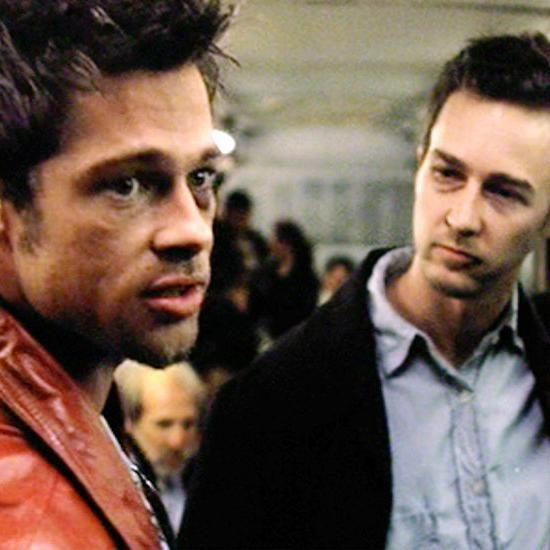Drunk: (63, 74, 220, 342), (415, 102, 546, 284)
